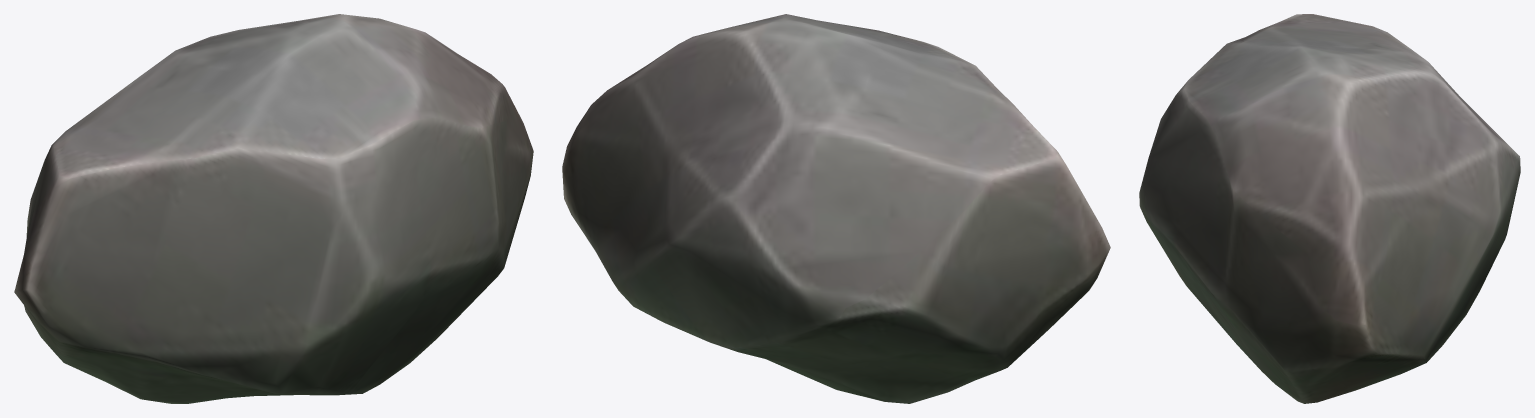
Rendered from sp-stein-5.glb.
3 views of the same model, side by side, from view 1: azimuth 30°, elevation 25°; view 2: azimuth 150°, elevation 25°; view 3: azimuth 270°, elevation 25° (orthographic). The views are drawn at different scales.
Visible parts, largest first — view 1: sp-stein-5; view 2: sp-stein-5; view 3: sp-stein-5.
Boxes of the visible parts, x1,y1,x2,y2 form: sp-stein-5: (14, 14, 533, 403); sp-stein-5: (562, 14, 1110, 403); sp-stein-5: (1139, 14, 1520, 403).
Bounding box in the file's own units: 1.89 × 1.2 × 1.3.
1 material, 1 textured.
